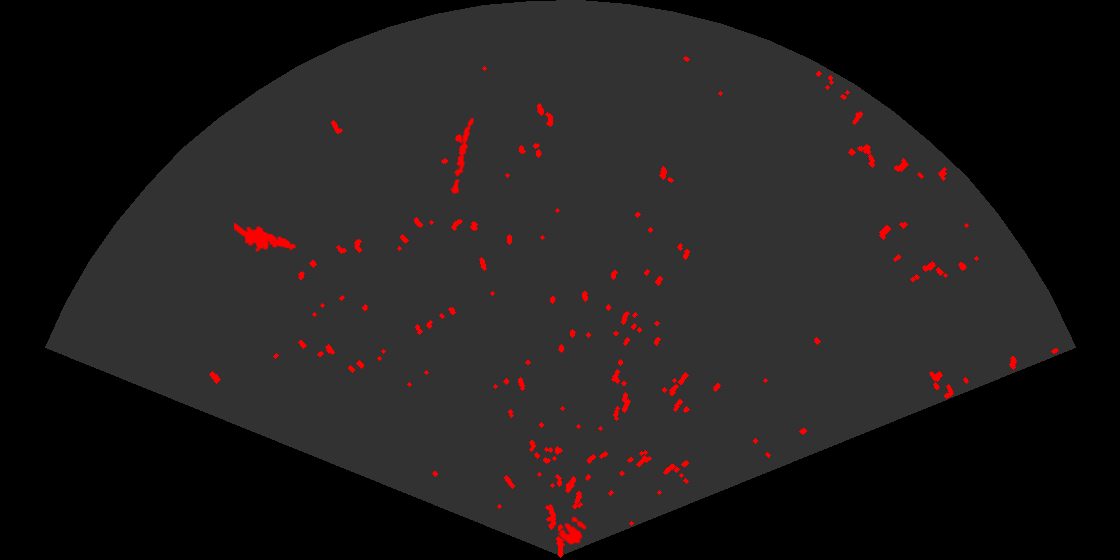ball: (558, 515, 588, 546)
chain: (449, 115, 476, 196)
frogman: (234, 221, 298, 253)
